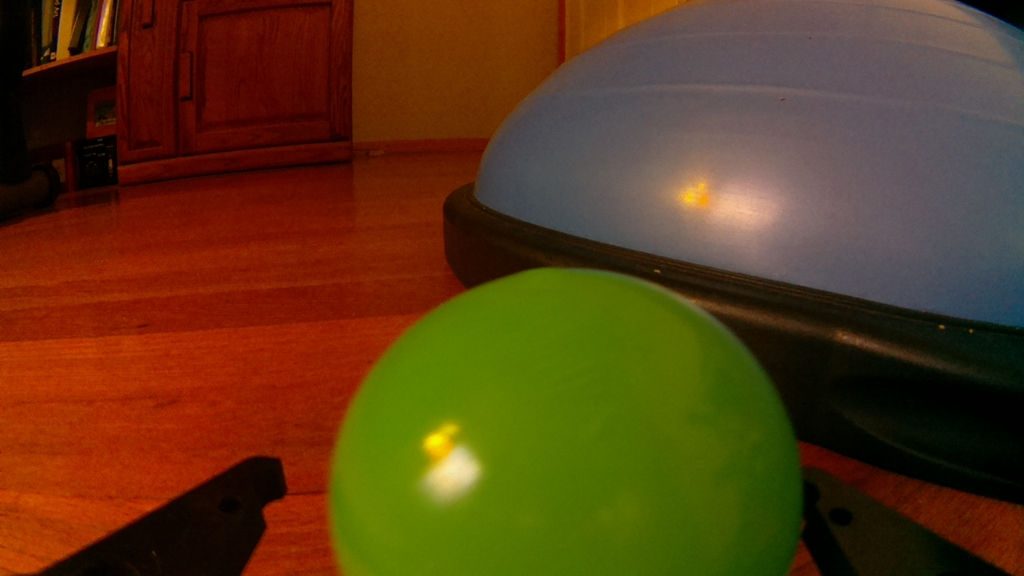ball: (321, 266, 802, 576)
